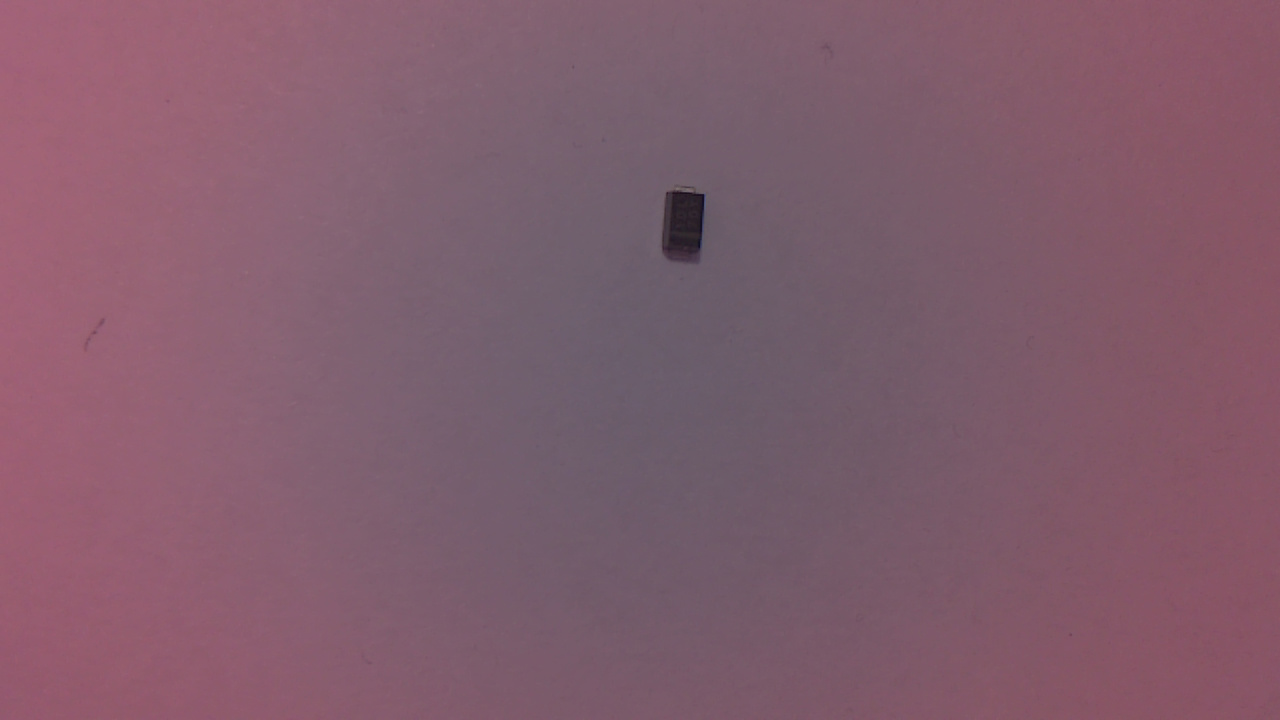Diode: (662, 187, 713, 266)
